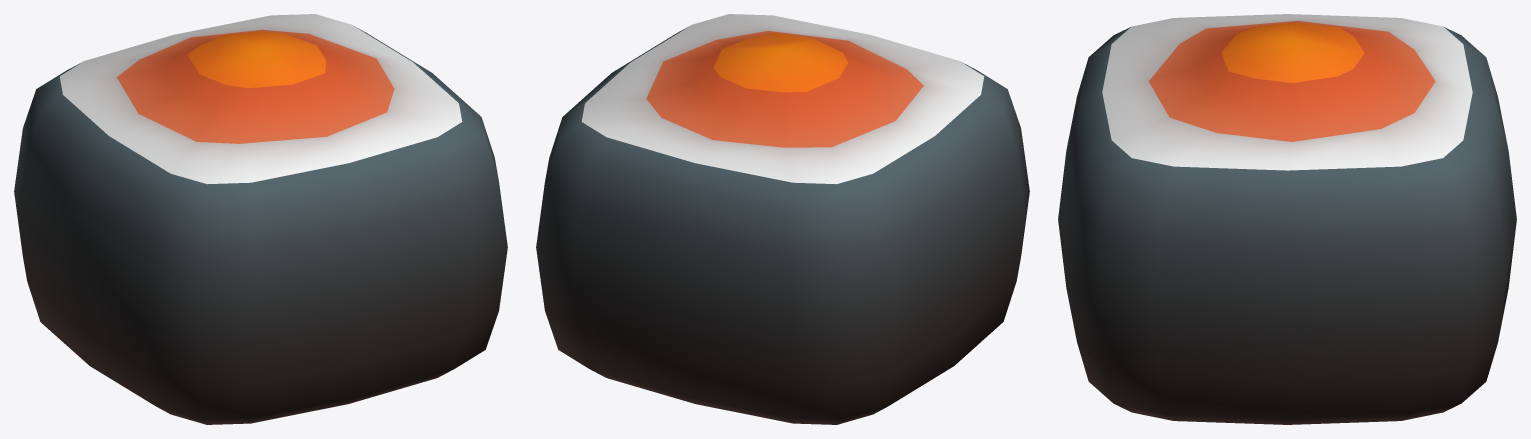
The model's file is roll_004.fbx.
3 views of the same model, side by side, from view 1: azimuth 30°, elevation 25°; view 2: azimuth 150°, elevation 25°; view 3: azimuth 270°, elevation 25° (orthographic). The views are drawn at different scales.
Parts seen in each view (by area): view 1: roll_004; view 2: roll_004; view 3: roll_004.
Boxes of the visible parts, x1,y1,x2,y2 form: roll_004: [14, 14, 507, 424]; roll_004: [536, 14, 1029, 424]; roll_004: [1058, 14, 1516, 424].
Bounding box in the file's own units: 4.45 × 4.45 × 3.88.
